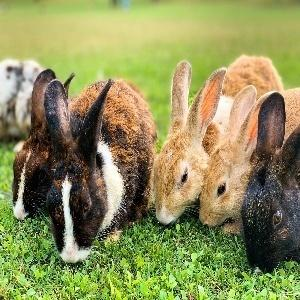rabbit: (36, 61, 299, 271)
